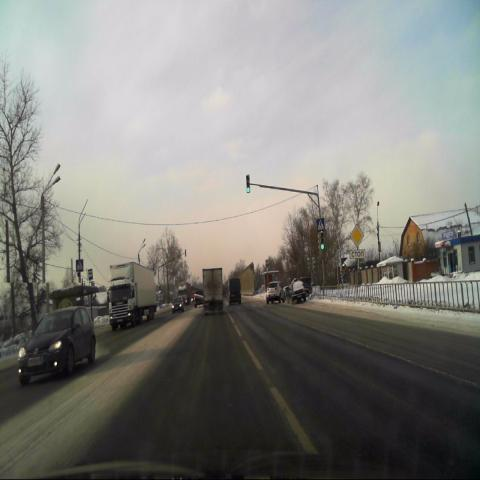2_1: (350, 224, 364, 247)
5_19_1: (316, 218, 324, 231)
